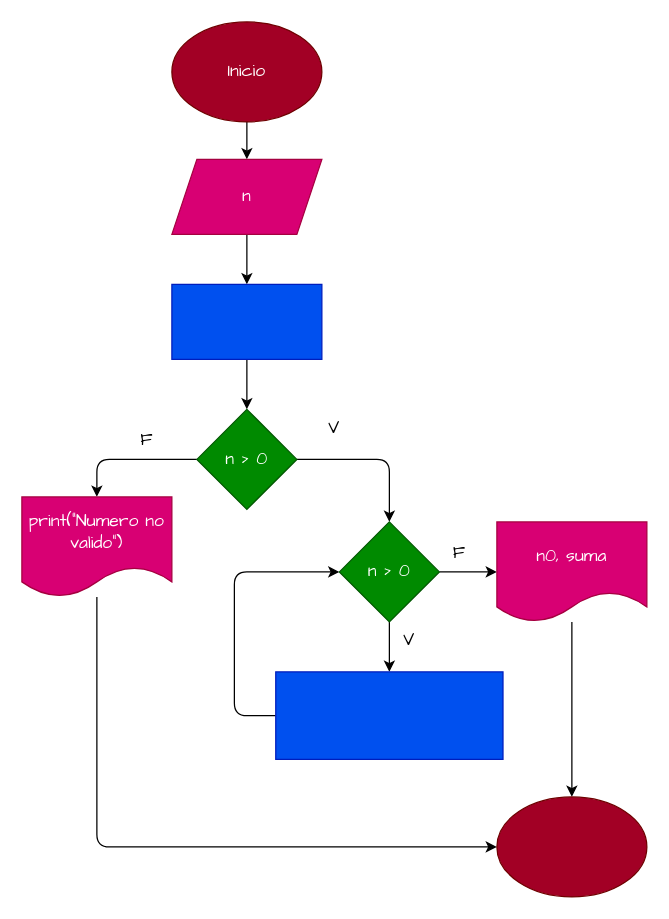
The diagram is 669 pixels wide and 919 high, and some of its shapes have lost their labels. The box of each missing label's shape, as (x1, y1, x2, y2) in pixels:
Fin: (496, 796, 647, 897)
n0,inverso: (171, 283, 322, 359)
n1 = n %10 inverso = (inverso * 10)+ n1 n = n//10: (274, 671, 503, 759)
